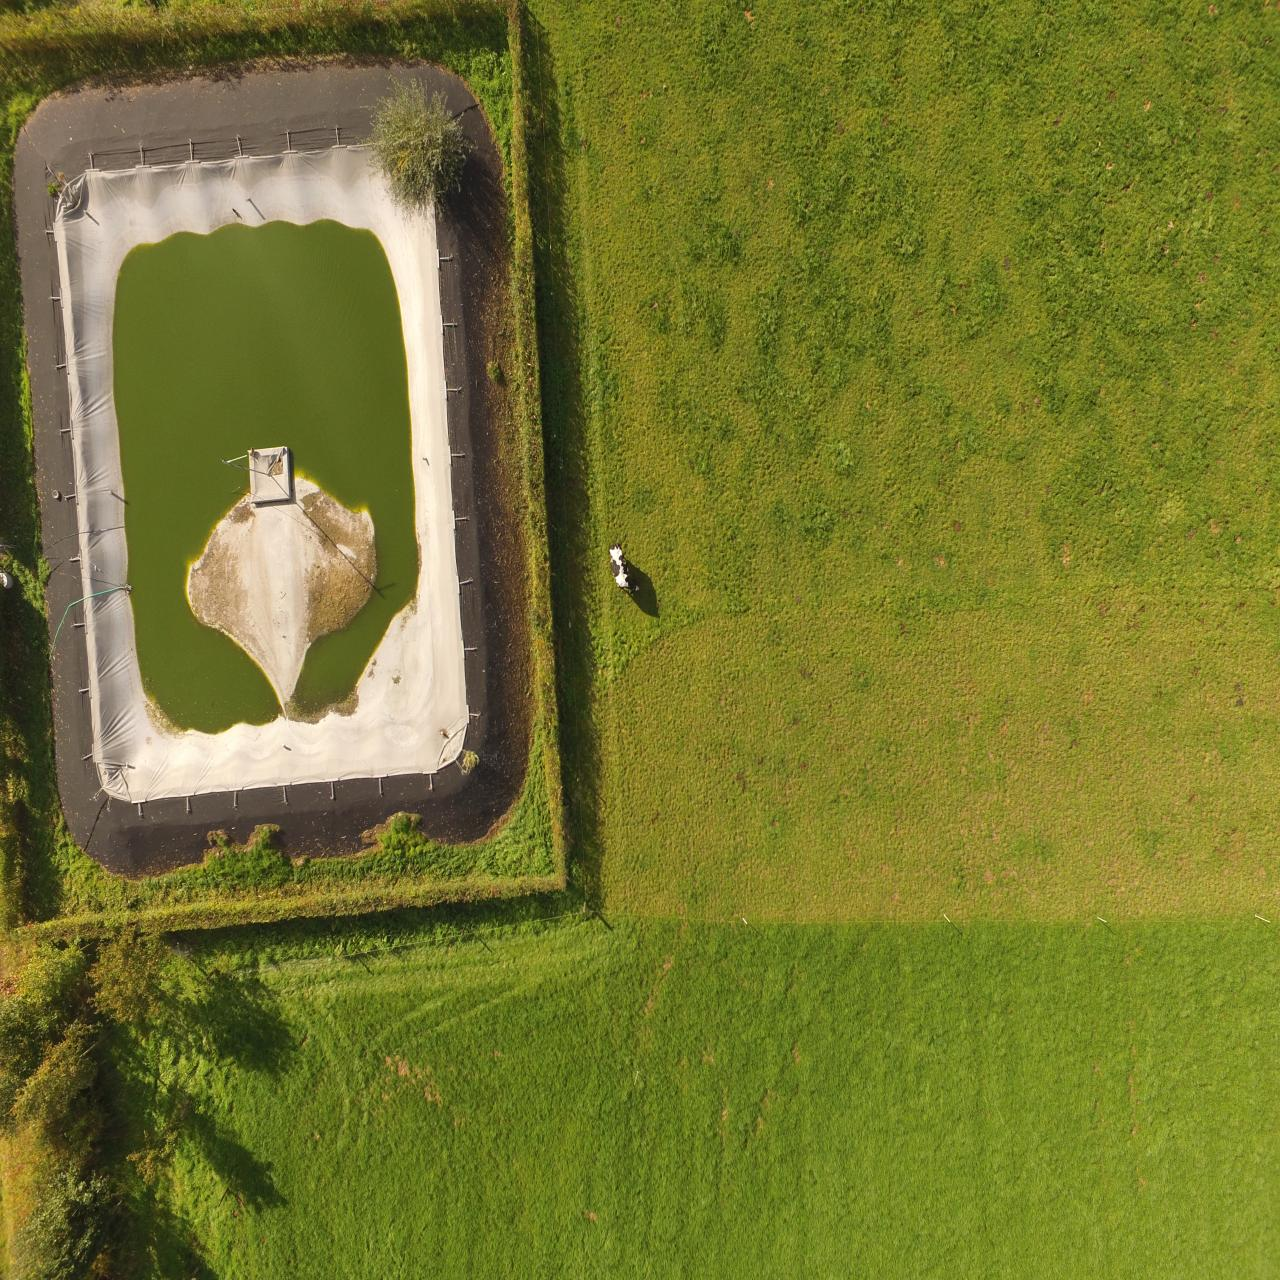cow: (607, 542, 640, 593)
